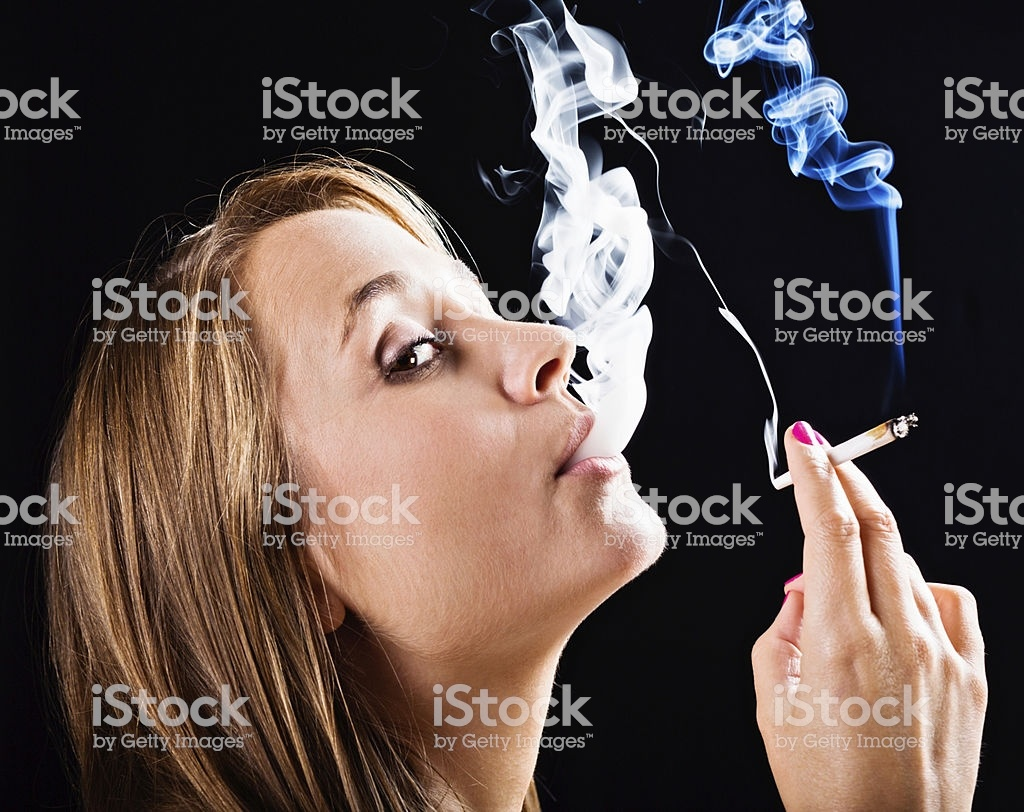sigaretta: (778, 413, 916, 493)
